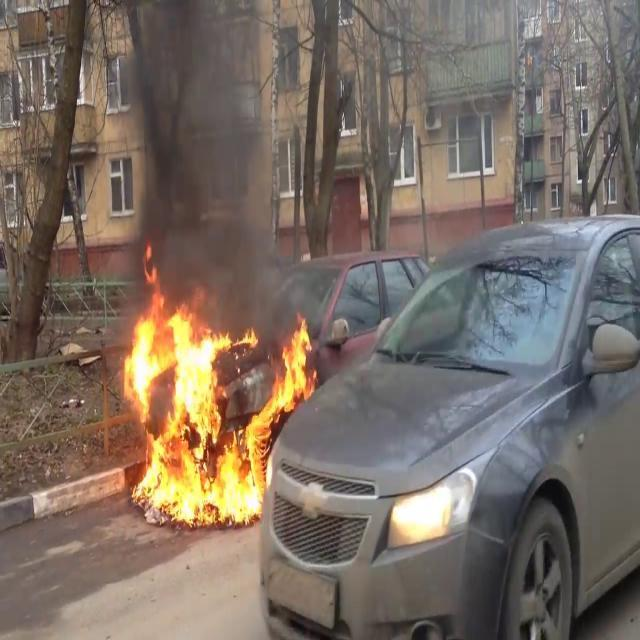Fire: (116, 290, 316, 528)
Smoke: (114, 1, 304, 302)
